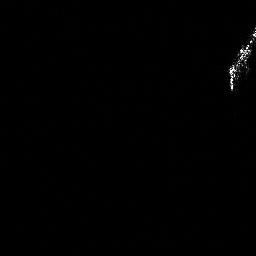ship: (225, 24, 255, 95)
